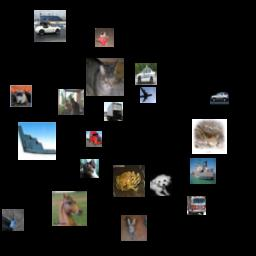airplane: (18, 122, 56, 160), (140, 87, 156, 103)
automobile: (34, 10, 66, 42), (135, 63, 157, 85), (210, 87, 229, 106)
bird: (192, 119, 227, 154), (2, 209, 24, 231)
cat: (86, 58, 124, 96), (58, 89, 84, 115), (121, 215, 147, 241), (80, 159, 99, 178)
dog: (10, 85, 32, 107), (150, 174, 172, 196), (95, 28, 114, 47)
frog: (113, 165, 145, 197)
ship: (190, 158, 216, 184)
truck: (187, 196, 206, 215), (104, 102, 123, 121), (86, 131, 102, 147)
